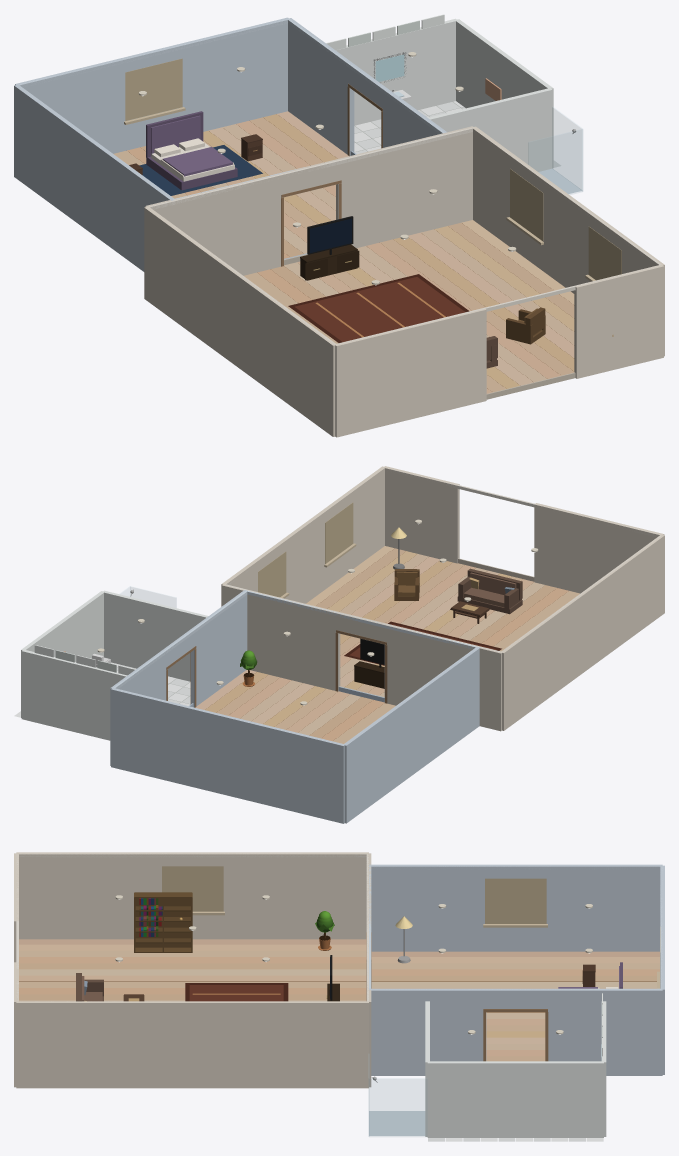
The model's file is agral-interior.glb.
3 renders of one model, top to bottom at view 1: azimuth 30°, elevation 25°; view 2: azimuth 150°, elevation 25°; view 3: azimuth 270°, elevation 25°, orthographic. The views are drawn at different scales.
Bounding box in the file's own units: 16.47 × 3.22 × 22.16.
